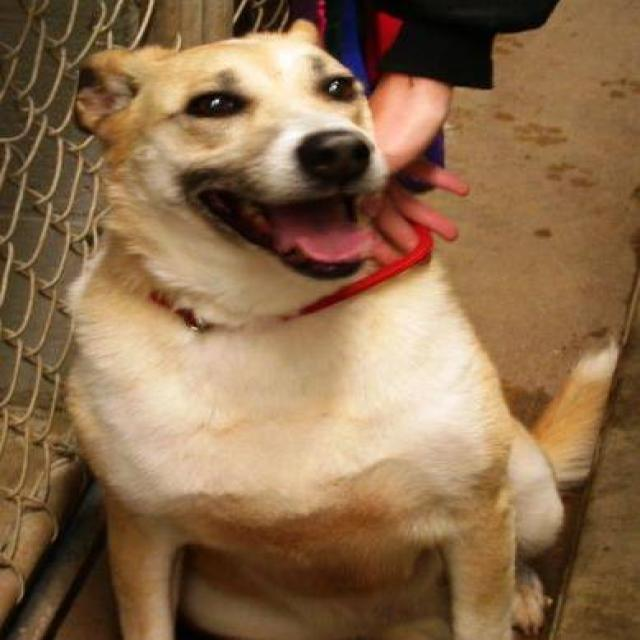dog: (61, 18, 620, 639)
